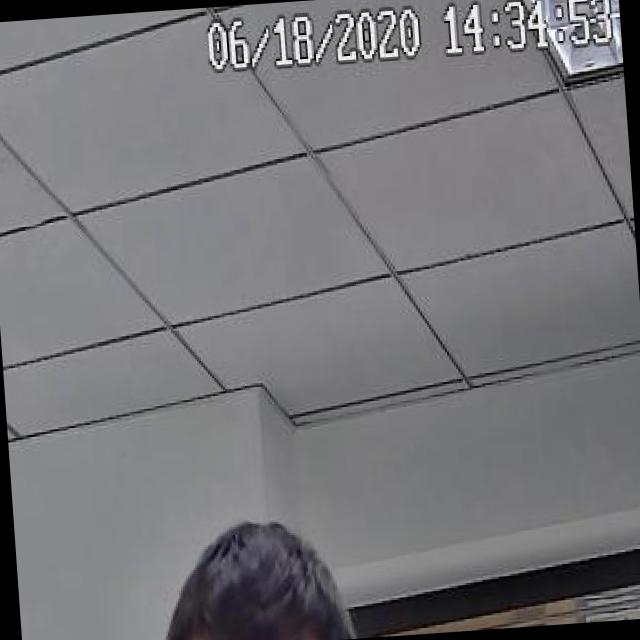Guns: (18, 589, 25, 640)
